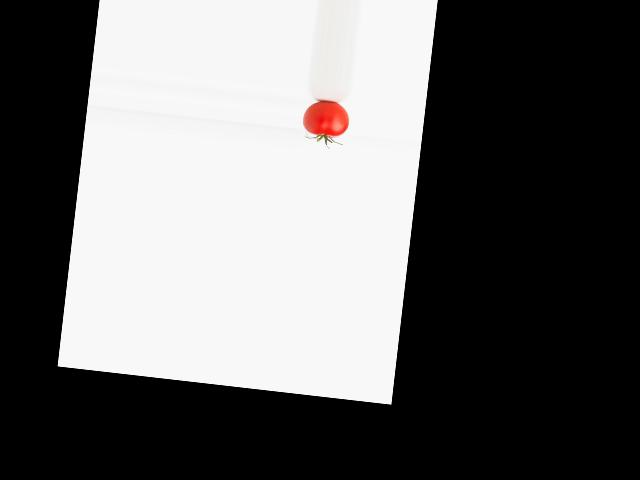tomato: (302, 99, 351, 138)
